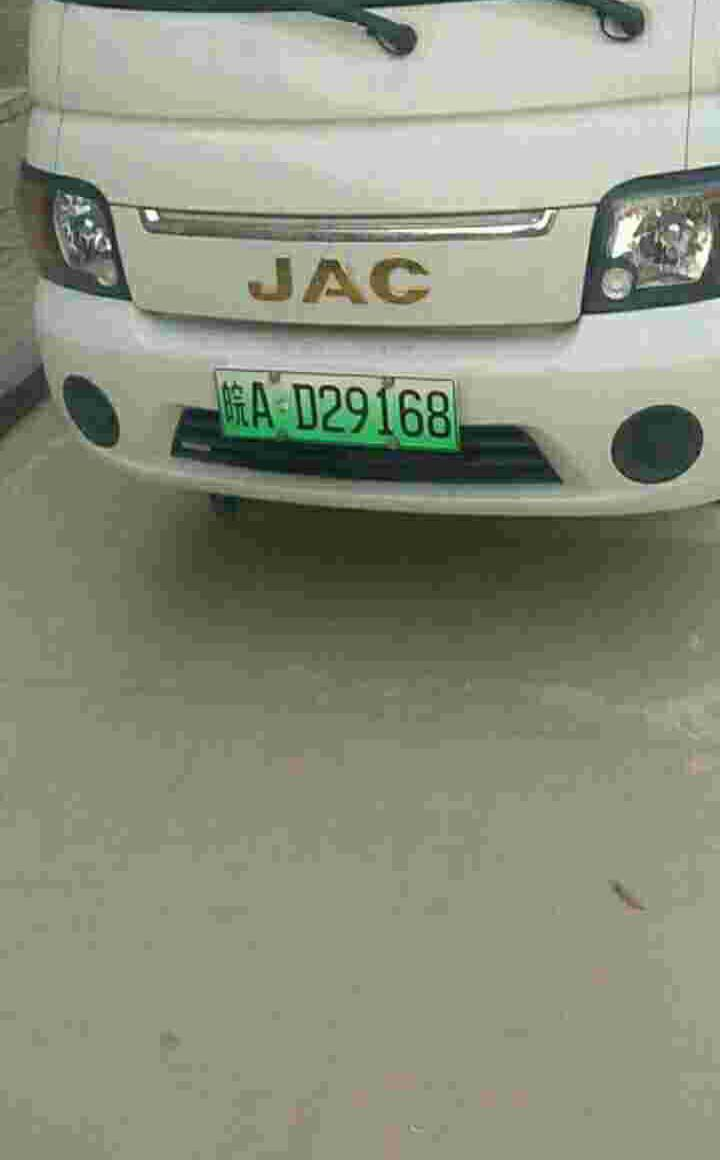car_green: (215, 364, 468, 457)
